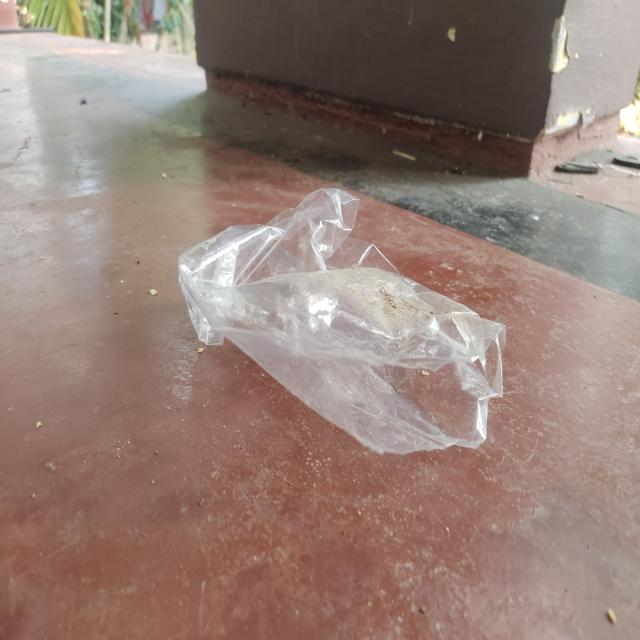plastic: (174, 184, 510, 462)
